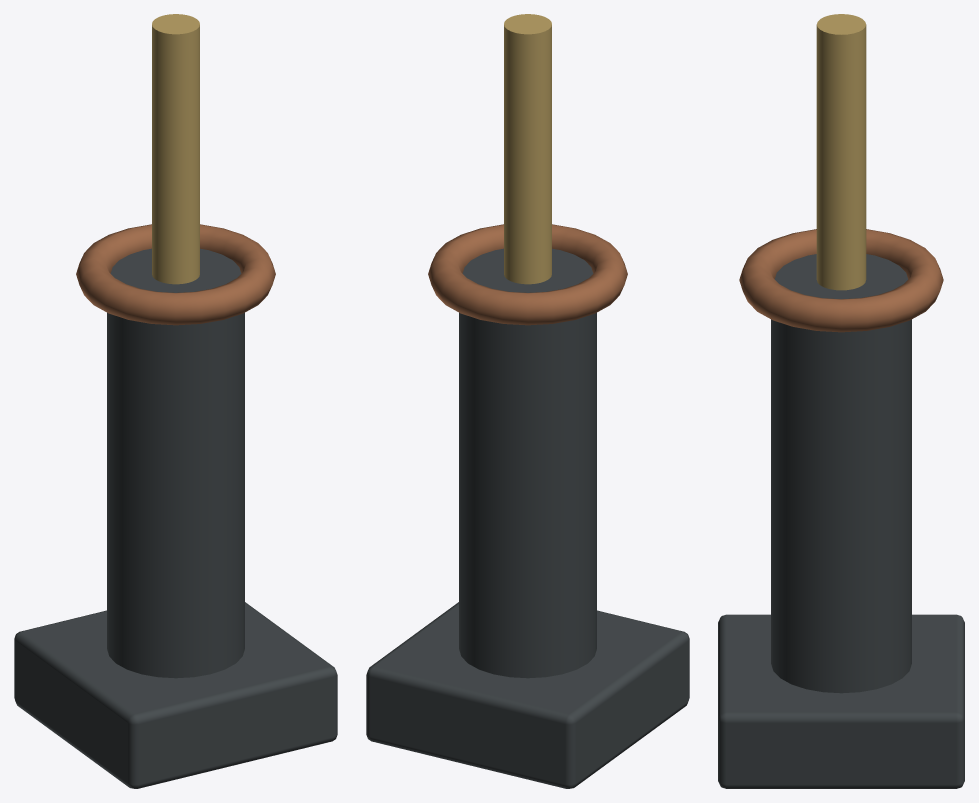
The model's file is undercity-sewers-and-thieves-den-sluice-stem-housing-6f2988b7__27230.glb.
3 views of the same model, side by side, from view 1: azimuth 30°, elevation 25°; view 2: azimuth 150°, elevation 25°; view 3: azimuth 270°, elevation 25° (orthographic). The views are drawn at different scales.
Parts seen in each view (by area): view 1: sluice-stem-housing; view 2: sluice-stem-housing; view 3: sluice-stem-housing.
Part boxes in pixels (x1,y1,x2,y2): sluice-stem-housing: (14,14,337,788); sluice-stem-housing: (366,14,689,788); sluice-stem-housing: (718,14,964,788).
Size of the model in its own units: 0.35 by 1.12 by 0.35.
